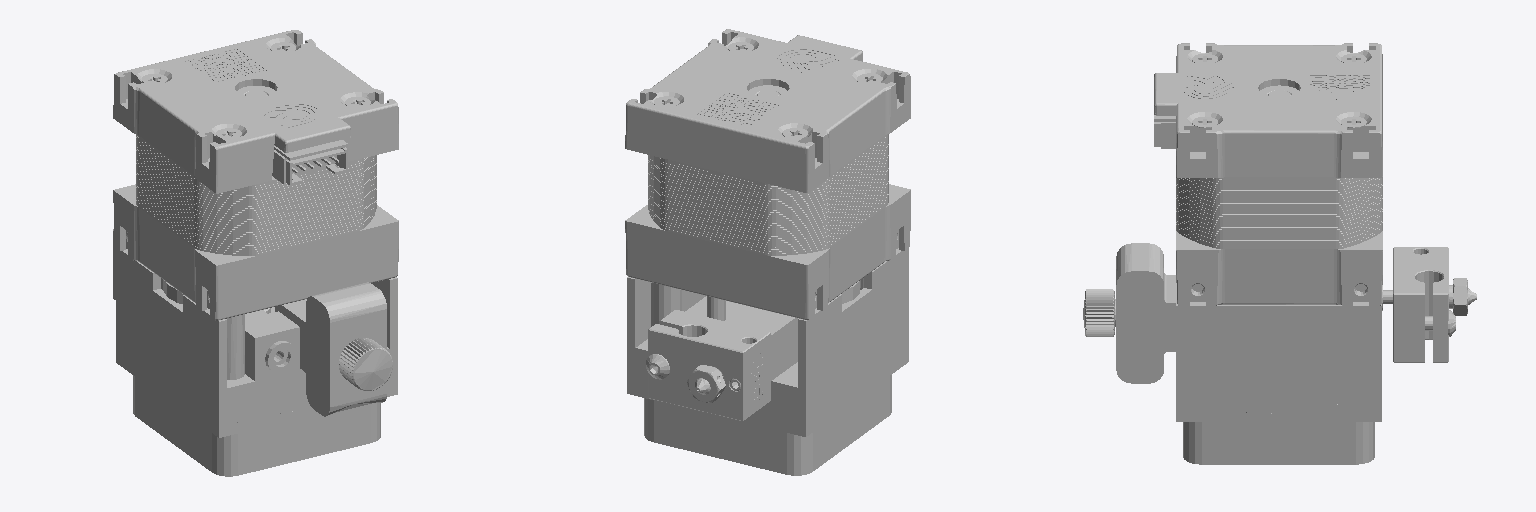
The model's file is hemera.obj.
3 views of the same model, side by side, from view 1: azimuth 30°, elevation 25°; view 2: azimuth 150°, elevation 25°; view 3: azimuth 270°, elevation 25° (orthographic).
Parts seen in each view (by area): view 1: HEMERA-MOTOR_1_1_1_1_1_1, HEMERA-175-SINK_1_1_1_1, 40x40x10_DC_Fan, HEMERA-175-IDLER_1_1_1_1_1_1, HEMERA-THUMBWHEEL_1_1_1_1_1_1, M-BOWDEN-COUPLING-PLASTIC-175_1_1_1_1_1_1; view 2: HEMERA-MOTOR_1_1_1_1_1_1, HEMERA-175-SINK_1_1_1_1, 40x40x10_DC_Fan, V6-BLOCK-CARTRIDGE_1_1_1_1_1_1, V6-NOZZLE_1_1_1_1_1_1; view 3: HEMERA-MOTOR_1_1_1_1_1_1, HEMERA-175-SINK_1_1_1_1, 40x40x10_DC_Fan, HEMERA-175-IDLER_1_1_1_1_1_1, V6-BLOCK-CARTRIDGE_1_1_1_1_1_1, HEMERA-THUMBWHEEL_1_1_1_1_1_1, V6-NOZZLE_1_1_1_1_1_1.
Part boxes in pixels (x1,y1,x2,y2): HEMERA-MOTOR_1_1_1_1_1_1: (113, 30, 398, 320); HEMERA-175-SINK_1_1_1_1: (116, 249, 397, 437); 40x40x10_DC_Fan: (133, 375, 380, 476); HEMERA-175-IDLER_1_1_1_1_1_1: (275, 282, 386, 416); HEMERA-THUMBWHEEL_1_1_1_1_1_1: (339, 338, 392, 390); M-BOWDEN-COUPLING-PLASTIC-175_1_1_1_1_1_1: (265, 341, 296, 373); HEMERA-MOTOR_1_1_1_1_1_1: (625, 29, 910, 319); HEMERA-175-SINK_1_1_1_1: (627, 248, 908, 436); 40x40x10_DC_Fan: (644, 375, 891, 475); V6-BLOCK-CARTRIDGE_1_1_1_1_1_1: (648, 310, 770, 420); V6-NOZZLE_1_1_1_1_1_1: (687, 365, 725, 402); HEMERA-MOTOR_1_1_1_1_1_1: (1154, 43, 1382, 305); HEMERA-175-SINK_1_1_1_1: (1176, 302, 1381, 421); 40x40x10_DC_Fan: (1183, 422, 1374, 464); HEMERA-175-IDLER_1_1_1_1_1_1: (1116, 243, 1176, 383); V6-BLOCK-CARTRIDGE_1_1_1_1_1_1: (1393, 247, 1448, 362); HEMERA-THUMBWHEEL_1_1_1_1_1_1: (1083, 289, 1115, 336); V6-NOZZLE_1_1_1_1_1_1: (1449, 278, 1476, 315).
Size of the model in its own units: 44 by 77.25 by 82.2.